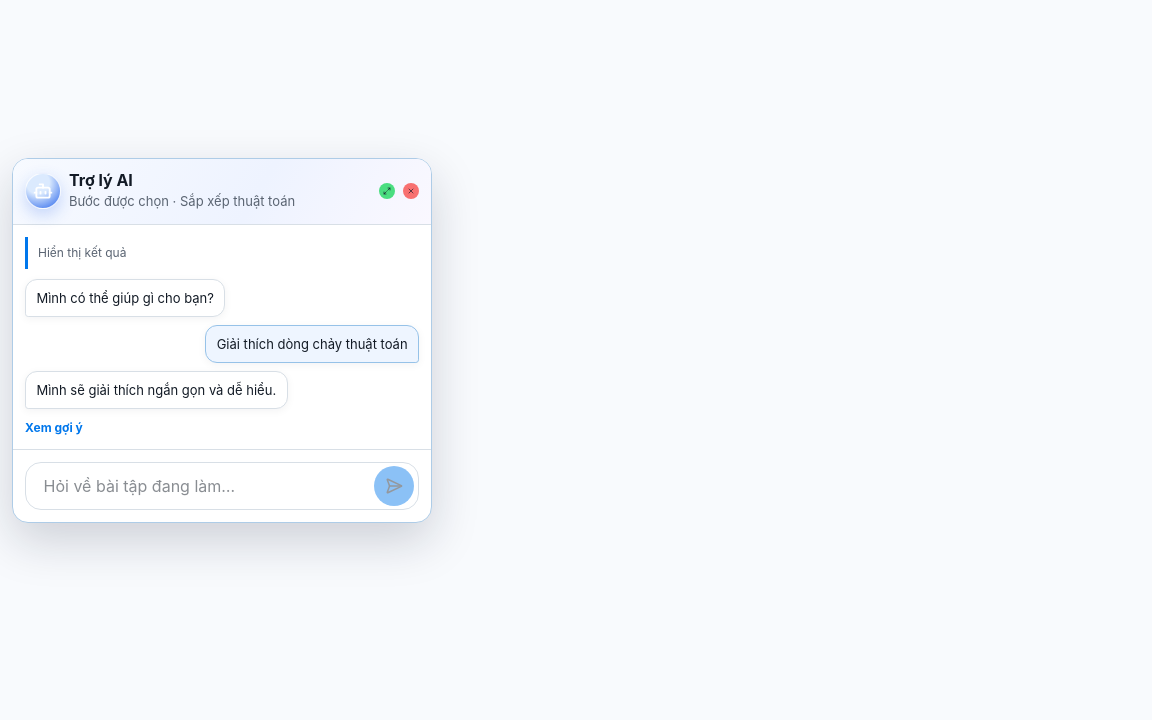
Test: AssistantQuickPopover › renders Practice actions and selected item context
The width and height of the screenshot is (1152, 720).
Check: the text "Bước được chọn · Sắp xếp thuật toán" is shown, box [69,193,295,209]
Check: the text "Hiển thị kết quả" is shown, box [25,237,419,270]
What coordinates should you click on to do the following:
click the button "Xem gợi ý"
I would click on:
 (54, 428)
Its box is [25,419,83,437].
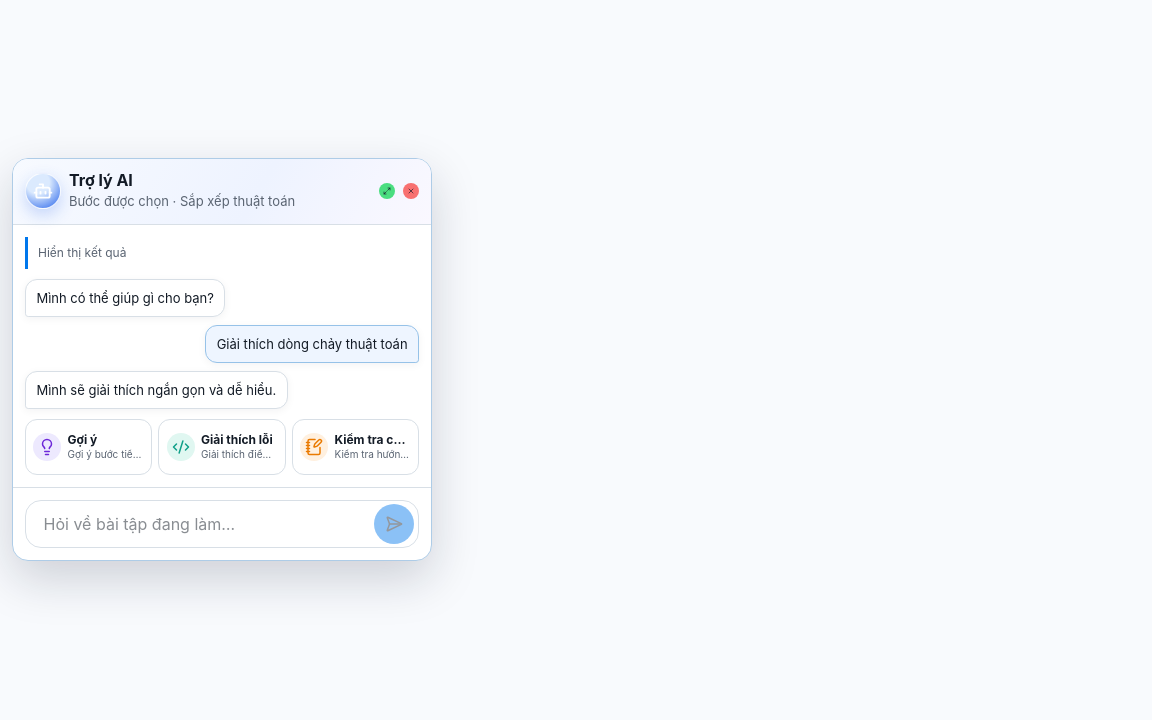
Check: the button "Gợi ý Gợi ý bước tiếp theo" is shown, box [25,419,152,475]
Check: the button "Giải thích lỗi" is shown, box [158,419,286,475]
Check: the button "Kiểm tra cách làm Kiểm tra hướng làm" is shown, box [292,419,419,475]
